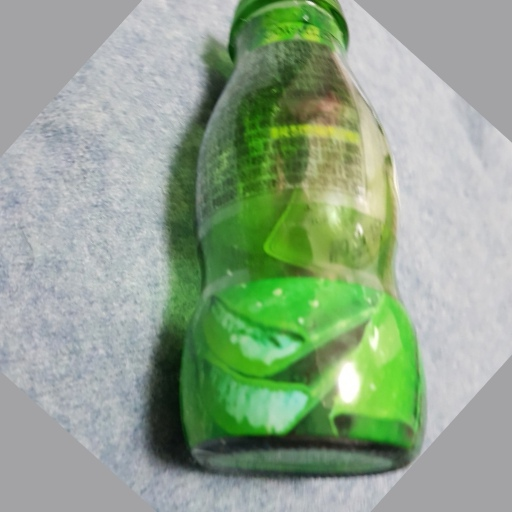Glass_4: (167, 1, 425, 477)
